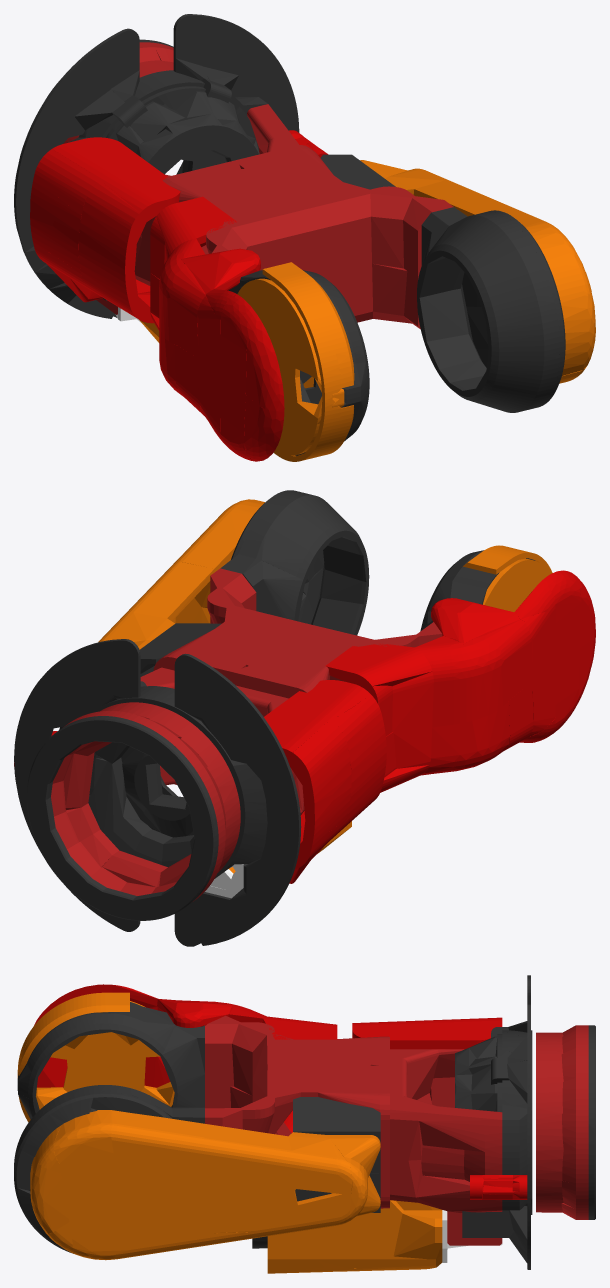
The model's file is RARM_LINK2_mesh.dae.
3 renders of one model, top to bottom at view 1: azimuth 30°, elevation 25°; view 2: azimuth 150°, elevation 25°; view 3: azimuth 270°, elevation 25°, orthographic. The views are drawn at different scales.
Parts seen in each view (by area): view 1: RARM_LINK2 (×17); view 2: RARM_LINK2 (×18); view 3: RARM_LINK2 (×19).
Boxes of the visible parts, x1=… form: RARM_LINK2 (×17): x1=14, y1=14, x2=595, y2=461; RARM_LINK2 (×18): x1=14, y1=490, x2=595, y2=946; RARM_LINK2 (×19): x1=14, y1=975, x2=595, y2=1273.
Size of the model in its own units: 0.1389 by 0.1205 by 0.233.
